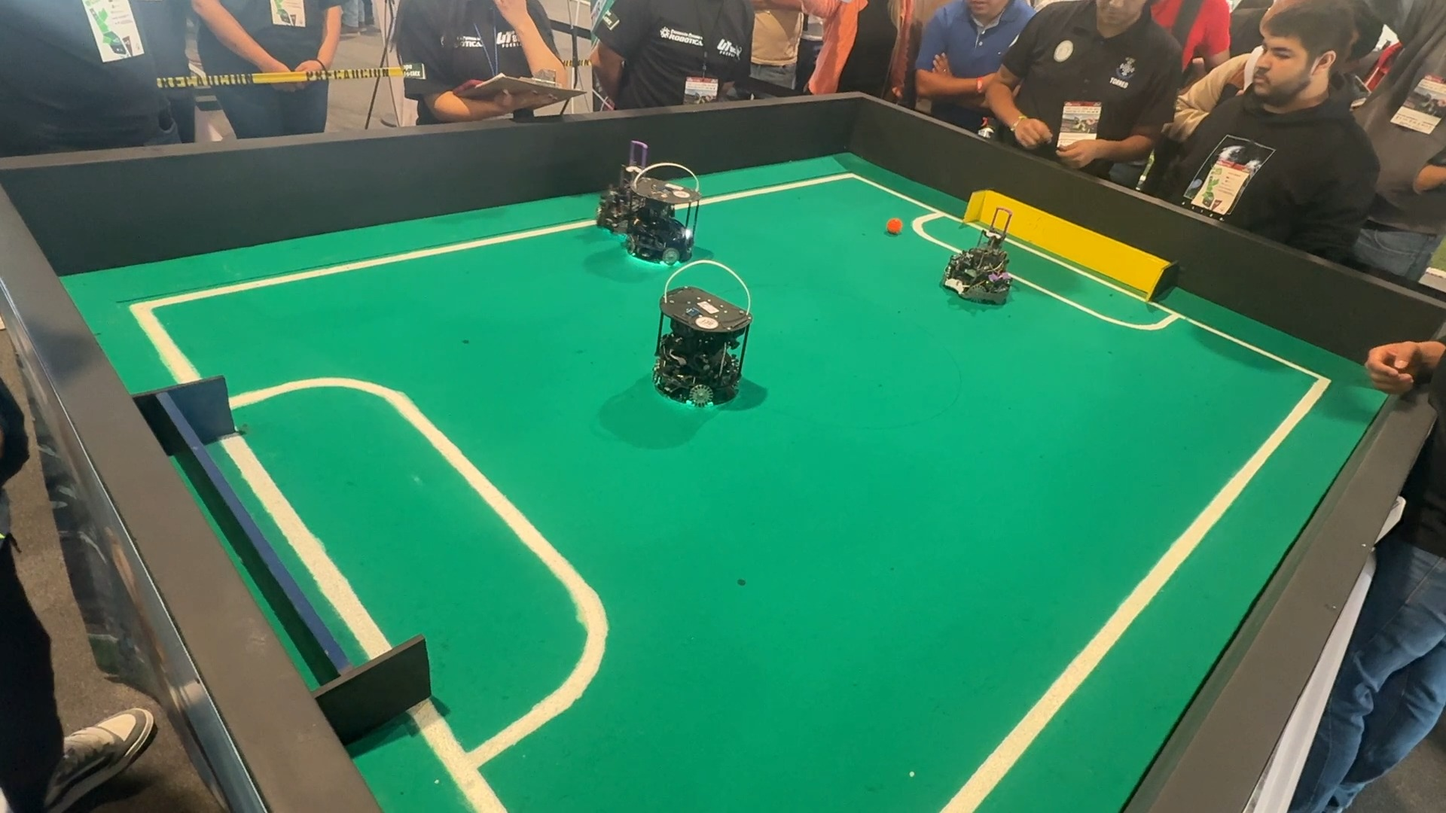Robot: (639, 247, 771, 431), (584, 139, 702, 281), (924, 190, 1033, 319)
pelota: (879, 215, 905, 241)
